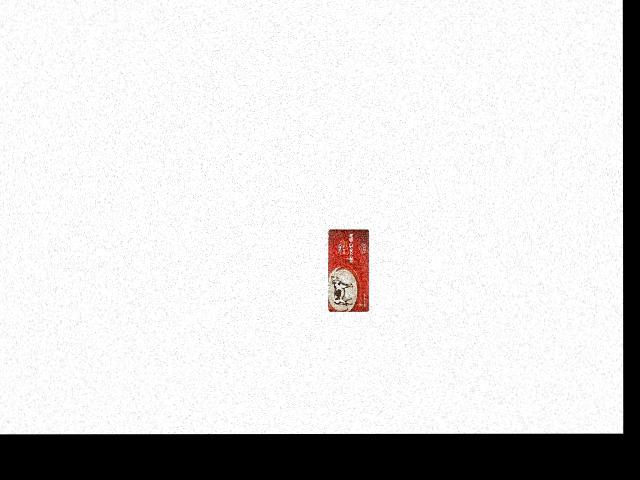chocolate: (328, 227, 371, 311)
